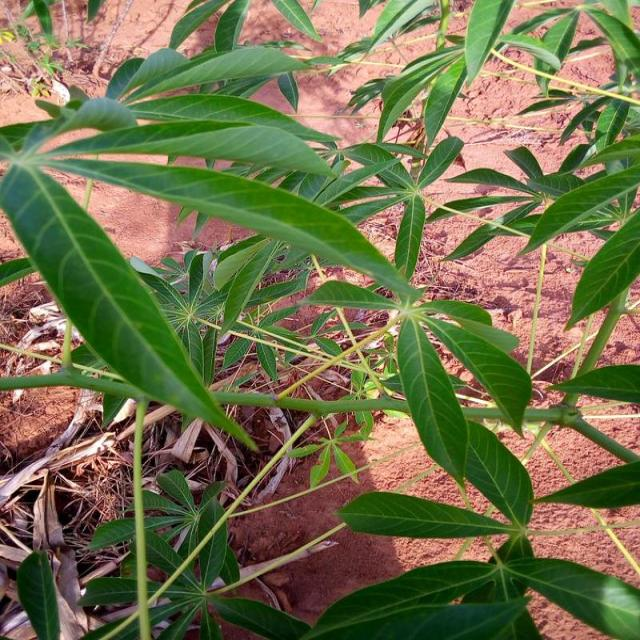cassava leaf: (1, 156, 259, 453), (395, 312, 469, 486)
